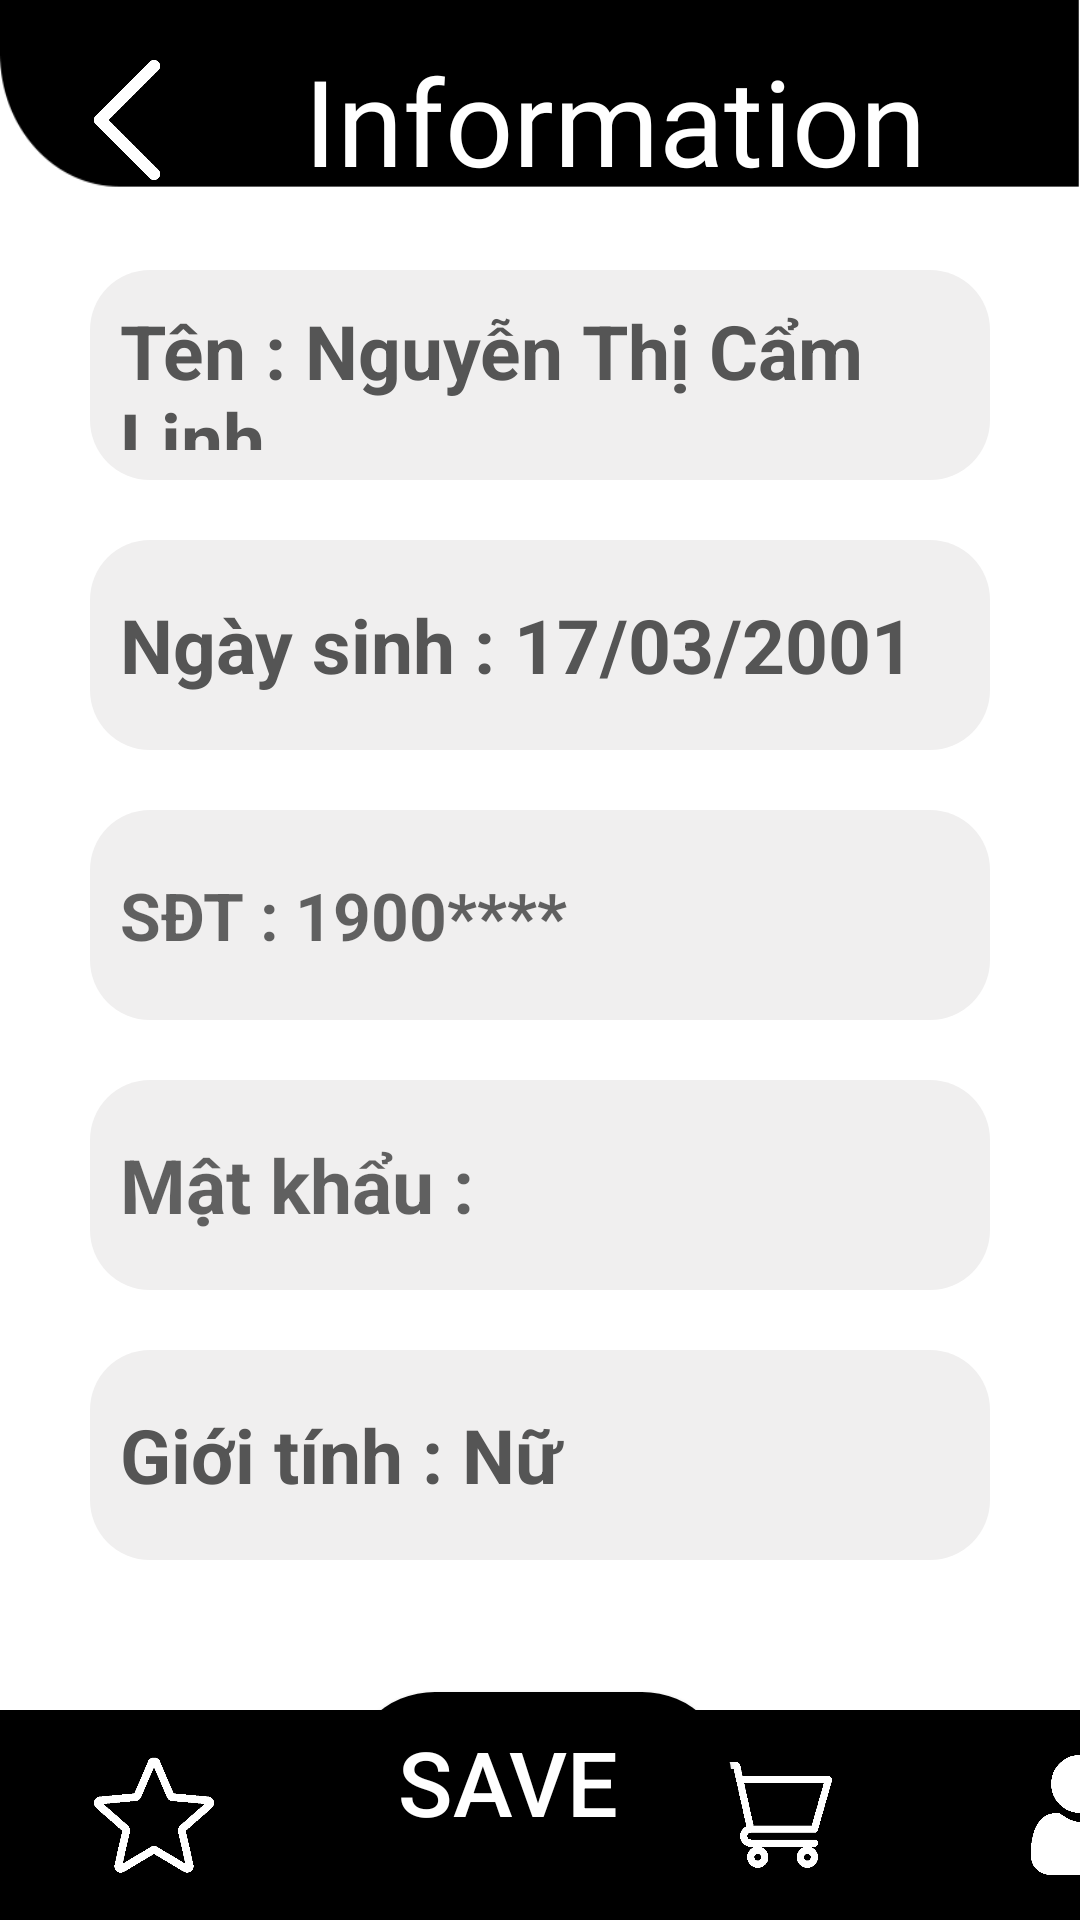

Icons on this 1080px×1920px Android screen, each with its box as (x1, y1, x2, y2):
back: (94, 60, 160, 180)
giohang: (729, 1762, 832, 1868)
sao: (94, 1757, 214, 1873)
